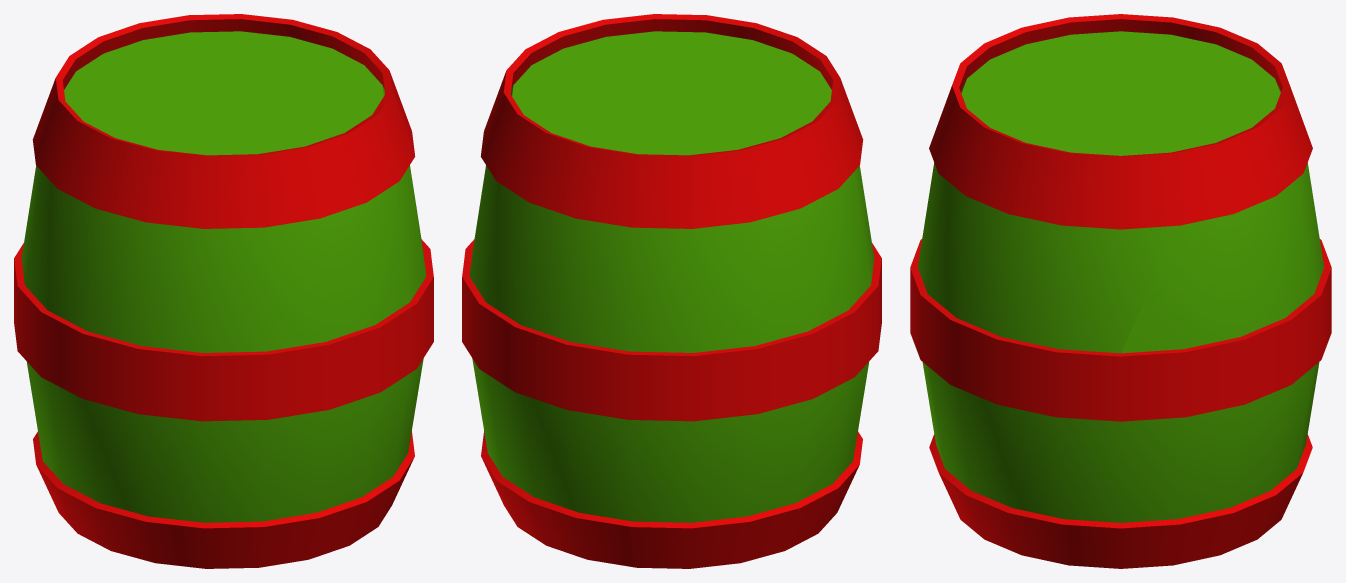
Rendered from barrel_weird.fbx.
3 renders of one model, left to right at view 1: azimuth 30°, elevation 25°; view 2: azimuth 150°, elevation 25°; view 3: azimuth 270°, elevation 25°, orthographic.
Parts seen in each view (by area): view 1: pCylinder3; view 2: pCylinder3; view 3: pCylinder3.
Boxes of the visible parts, bbox=[...] form: pCylinder3: bbox=[14, 14, 433, 568]; pCylinder3: bbox=[462, 14, 881, 568]; pCylinder3: bbox=[910, 14, 1331, 568].
Bounding box in the file's own units: 4.47 × 4.83 × 4.47.
